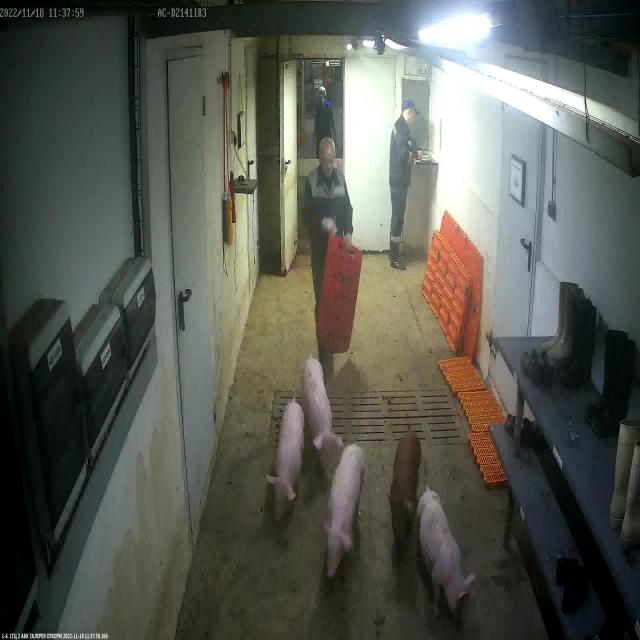pig: (416, 489, 475, 622), (326, 444, 364, 580), (267, 399, 306, 524), (304, 359, 344, 468), (391, 436, 420, 532)
